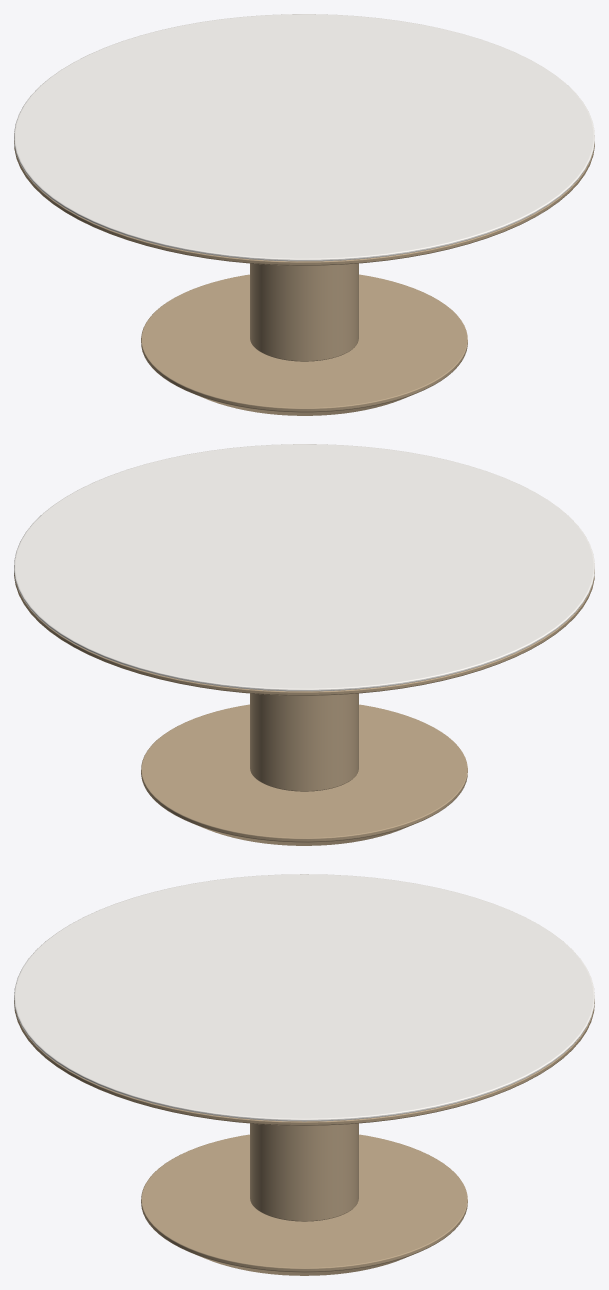
File: orbit_d80h33_proposta.glb
3 views of the same model, one above another, from view 1: azimuth 30°, elevation 25°; view 2: azimuth 150°, elevation 25°; view 3: azimuth 270°, elevation 25° (orthographic).
Parts seen in each view (by area): view 1: Top Orbit Coffee Table 020, Base Orbit Coffee Table 020, Base Element Orbit Coffee Table 023, Undertop Orbit Coffee Table 020; view 2: Top Orbit Coffee Table 020, Base Orbit Coffee Table 020, Base Element Orbit Coffee Table 023, Undertop Orbit Coffee Table 020; view 3: Top Orbit Coffee Table 020, Base Orbit Coffee Table 020, Base Element Orbit Coffee Table 023, Undertop Orbit Coffee Table 020.
Boxes of the visible parts, <box> form: Top Orbit Coffee Table 020: <box>14,14,594,261</box>; Base Orbit Coffee Table 020: <box>141,274,467,415</box>; Base Element Orbit Coffee Table 023: <box>250,263,358,361</box>; Undertop Orbit Coffee Table 020: <box>14,140,594,265</box>; Top Orbit Coffee Table 020: <box>14,444,594,691</box>; Base Orbit Coffee Table 020: <box>141,704,467,845</box>; Base Element Orbit Coffee Table 023: <box>250,693,358,791</box>; Undertop Orbit Coffee Table 020: <box>14,570,594,695</box>; Top Orbit Coffee Table 020: <box>14,874,594,1121</box>; Base Orbit Coffee Table 020: <box>141,1134,467,1275</box>; Base Element Orbit Coffee Table 023: <box>250,1123,358,1221</box>; Undertop Orbit Coffee Table 020: <box>14,1000,594,1125</box>.
Size of the model in its own units: 0.8 by 0.334 by 0.8.
